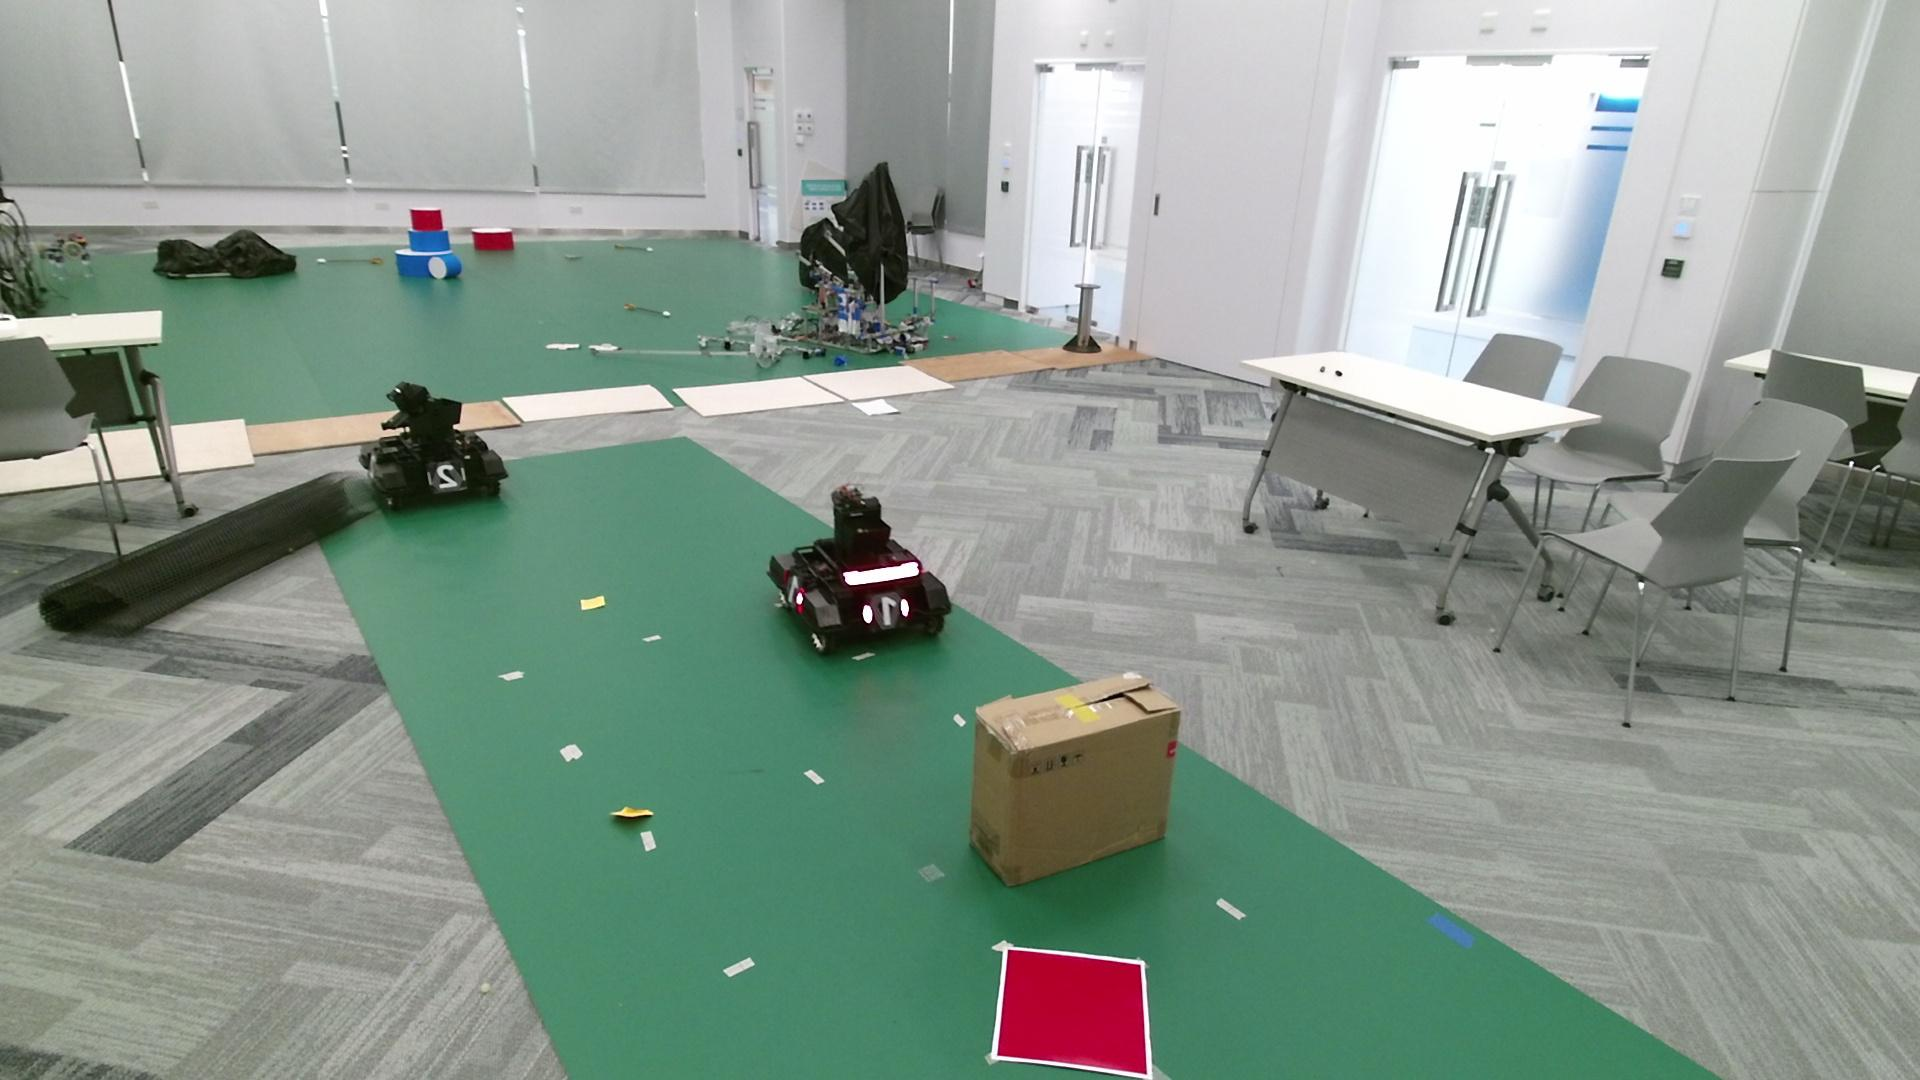robot: (765, 483, 953, 653), (357, 380, 509, 508)
